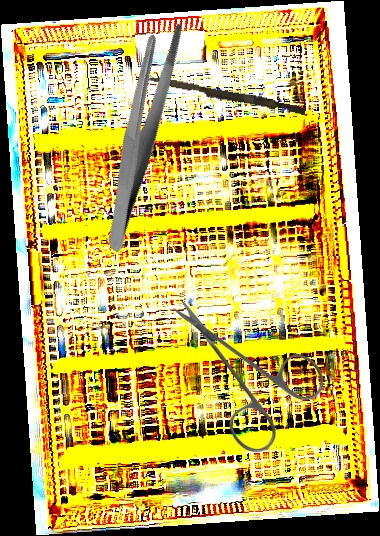Dressing Forceps: (50, 14, 231, 254)
Iris Scissors: (173, 300, 324, 452)
Pusher: (142, 74, 307, 116)
